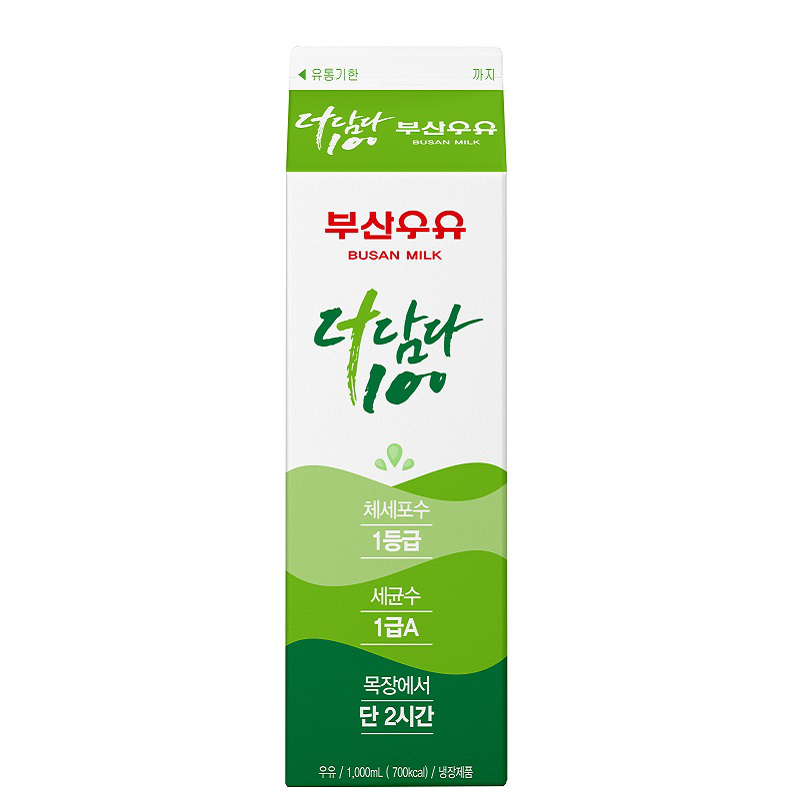milk: (281, 40, 508, 789)
